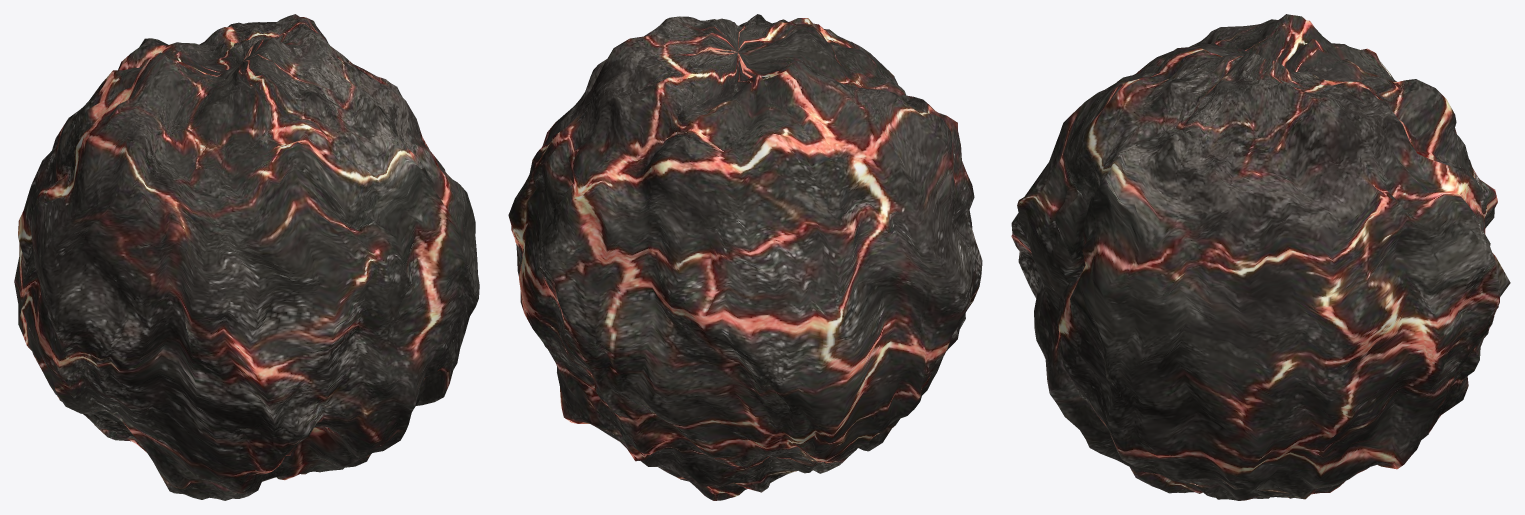
File: asteroid.FBX
3 renders of one model, left to right at view 1: azimuth 30°, elevation 25°; view 2: azimuth 150°, elevation 25°; view 3: azimuth 270°, elevation 25°, orthographic. The views are drawn at different scales.
Visible parts, largest first — view 1: Sphere01; view 2: Sphere01; view 3: Sphere01.
Part boxes in pixels (x1,y1,x2,y2): Sphere01: (14, 14, 479, 500); Sphere01: (508, 14, 982, 500); Sphere01: (1011, 14, 1510, 500).
Bounding box in the file's own units: 364 × 375 × 380.
Materials: 1 (1 with a texture image).
